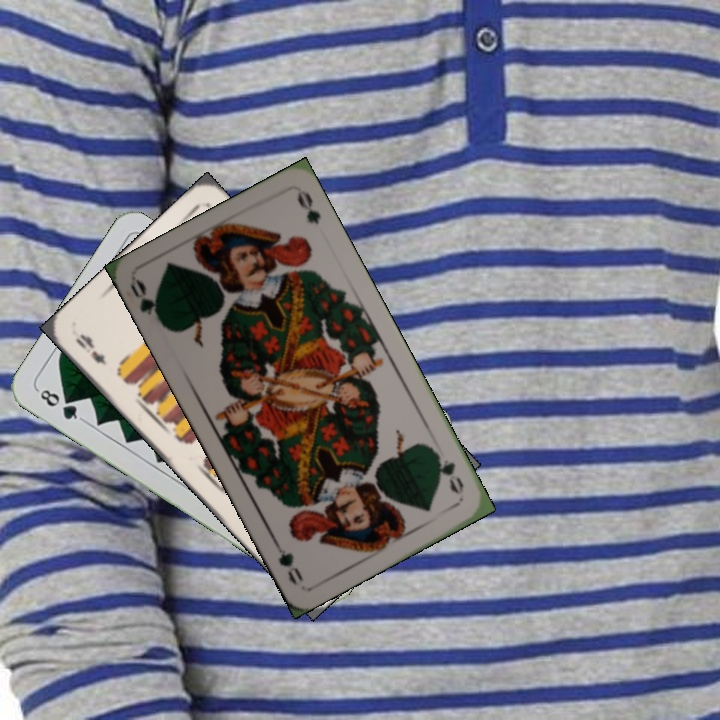E9: (71, 330, 109, 368)
G8: (33, 385, 86, 423)
GO: (126, 276, 167, 330), (429, 447, 467, 497)
